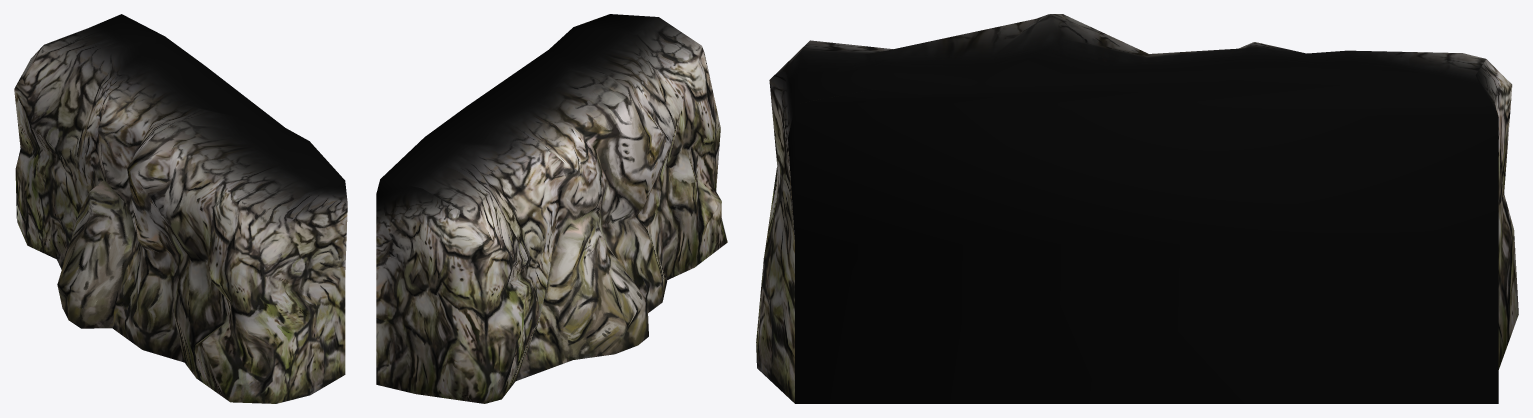
Rendered from STR_WallCaveB.FBX.
3 renders of one model, left to right at view 1: azimuth 30°, elevation 25°; view 2: azimuth 150°, elevation 25°; view 3: azimuth 270°, elevation 25°, orthographic. The views are drawn at different scales.
Visible parts, largest first — view 1: STR_WallCaveB; view 2: STR_WallCaveB; view 3: STR_WallCaveB.
Boxes of the visible parts, box(x1,y1,x2,y2) form: STR_WallCaveB: box(14, 14, 347, 403); STR_WallCaveB: box(376, 14, 727, 403); STR_WallCaveB: box(756, 14, 1518, 403).
Bounding box in the file's own units: 309 × 413 × 867.
